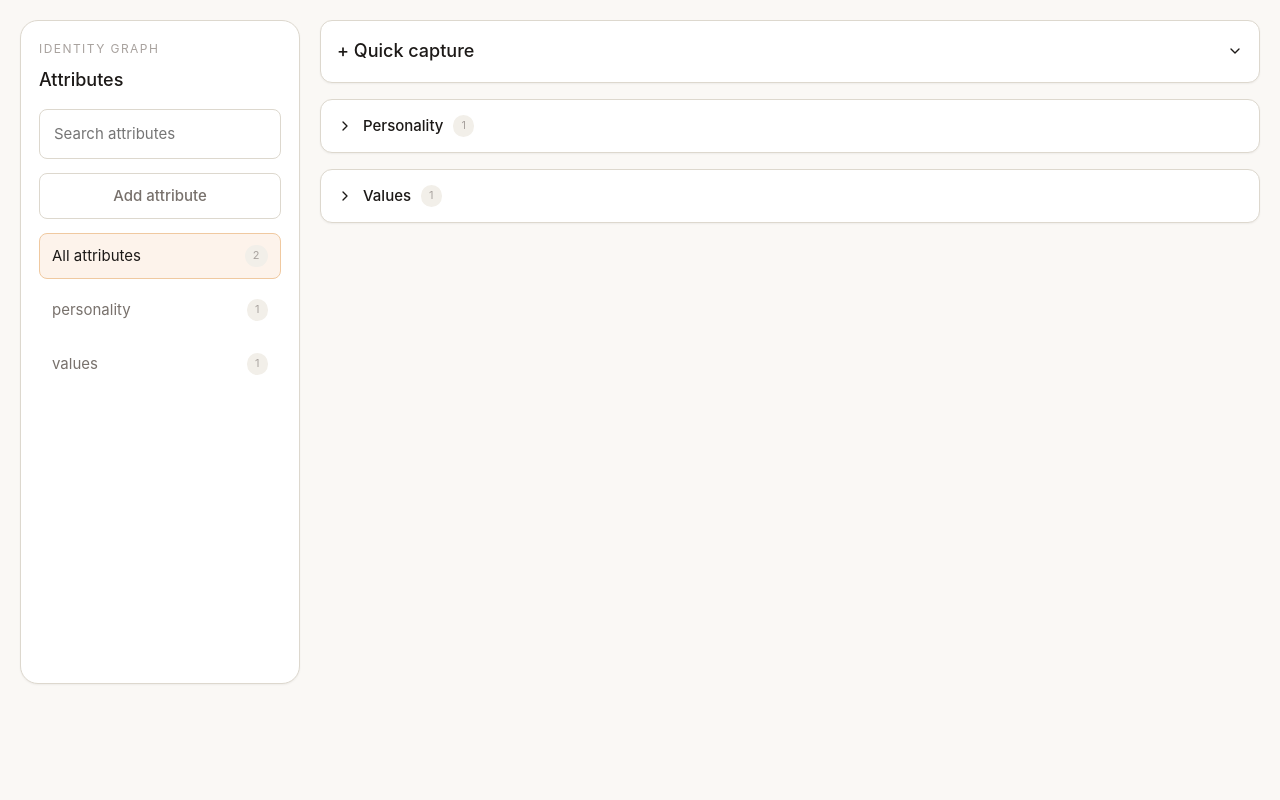
Test: GraphTab › defaults new attributes to the selected domain
Step 1. Click the button named "values1" → (160, 364), box [39,341,281,387]
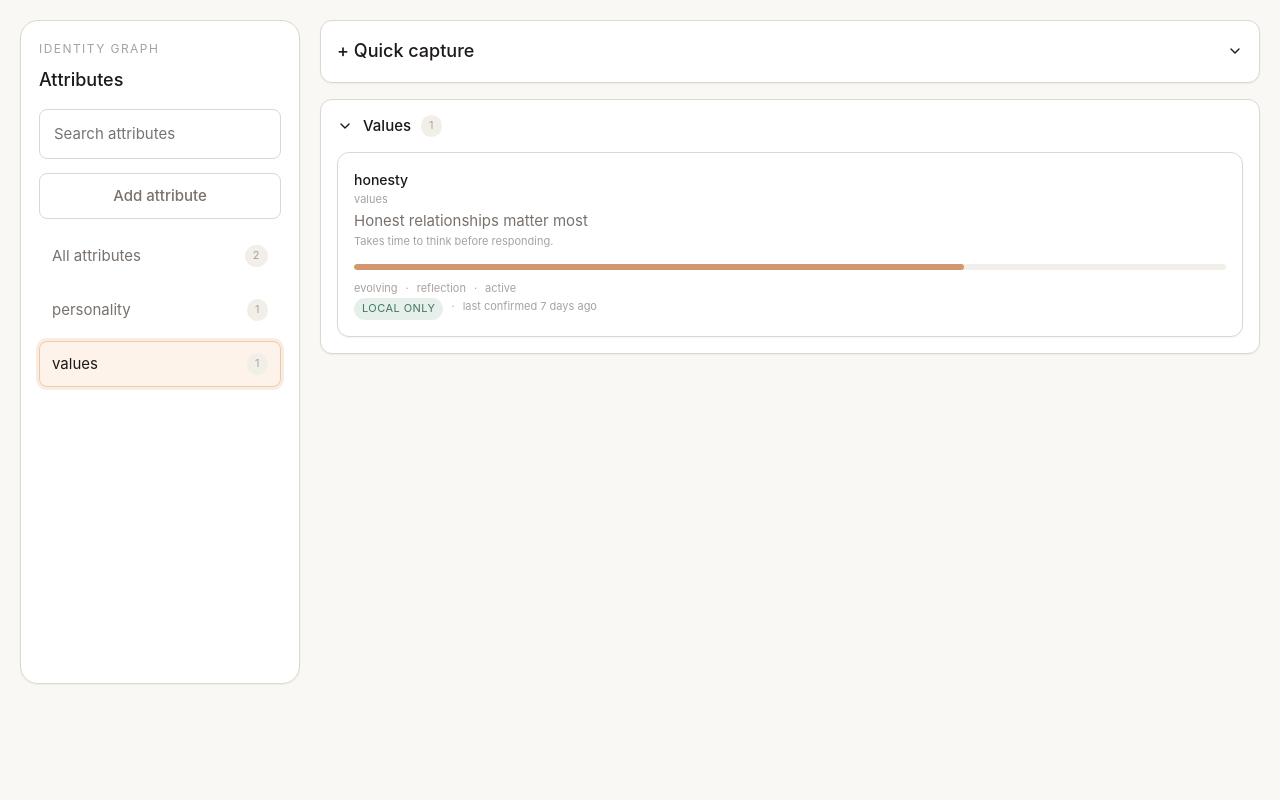
Step 2. Click the button "Add attribute" → (160, 196), box [39,173,281,219]
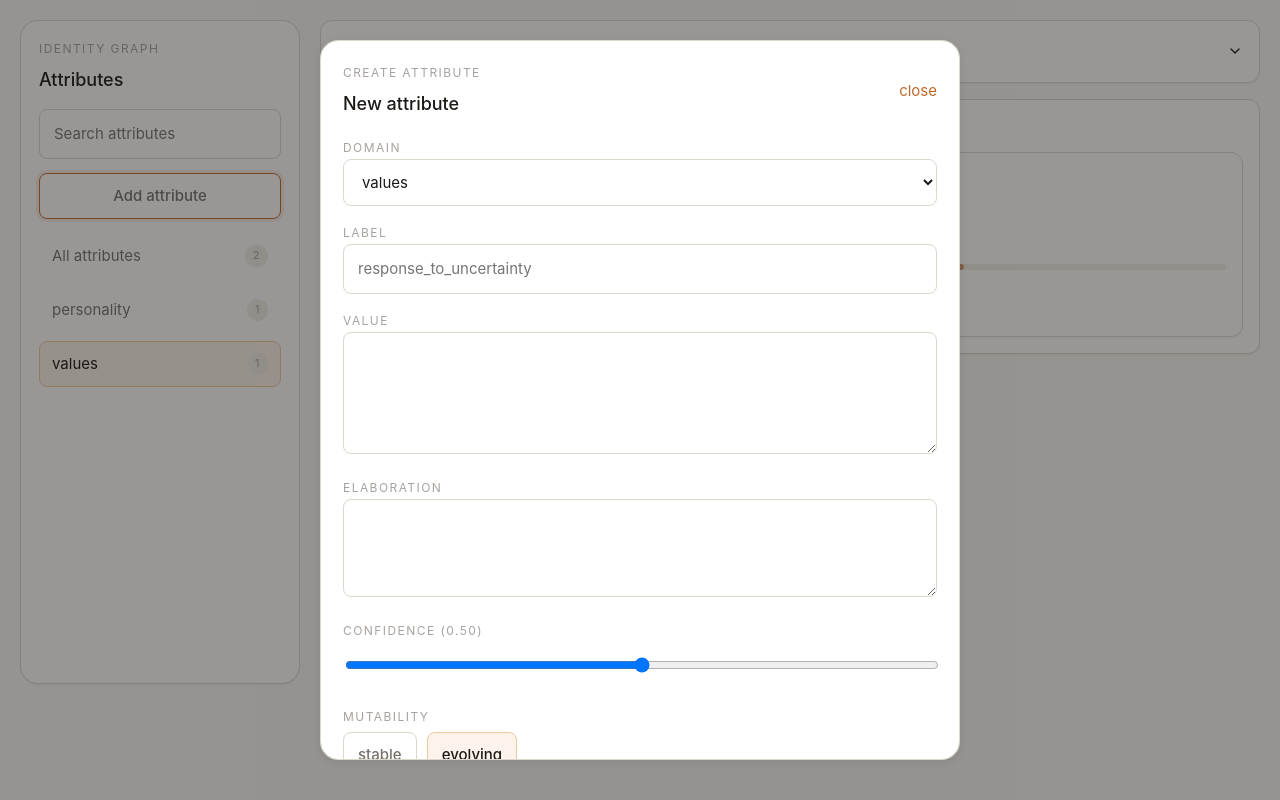
Result: the dropdown labelled "Domain" shows "values" at [343,159,937,206]
